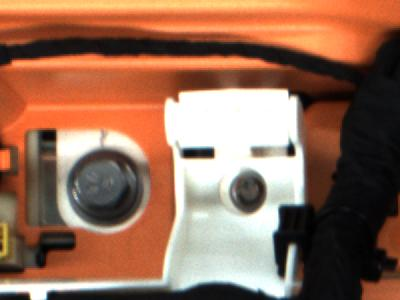nut_b: (62, 148, 147, 223)
